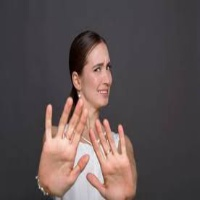ring: (56, 90, 73, 139), (104, 118, 119, 156)
